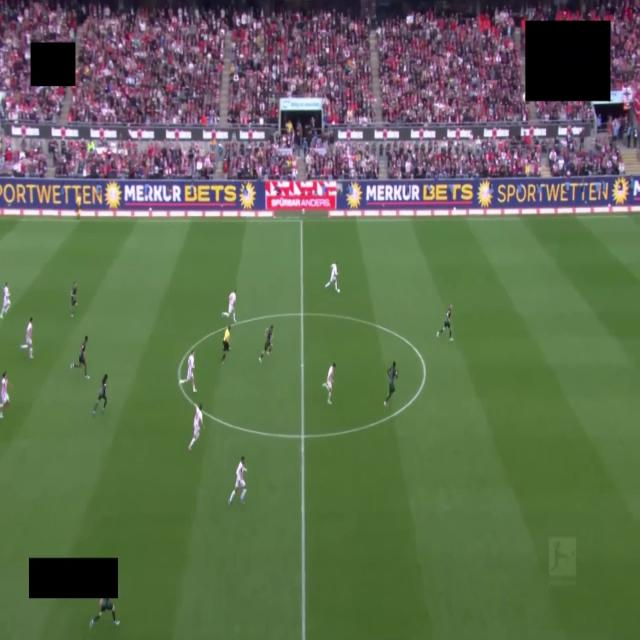ball: (337, 289, 339, 293)
player: (90, 599, 119, 628), (229, 456, 246, 504), (71, 336, 89, 379), (180, 351, 196, 392), (189, 404, 203, 450), (384, 361, 397, 407), (437, 304, 453, 341), (93, 375, 107, 415), (259, 325, 273, 362), (323, 363, 335, 404), (21, 318, 33, 359), (0, 372, 10, 418), (222, 290, 236, 322), (326, 263, 339, 292), (0, 282, 10, 319), (70, 281, 77, 317), (76, 196, 81, 217)
referee: (221, 327, 230, 363)
